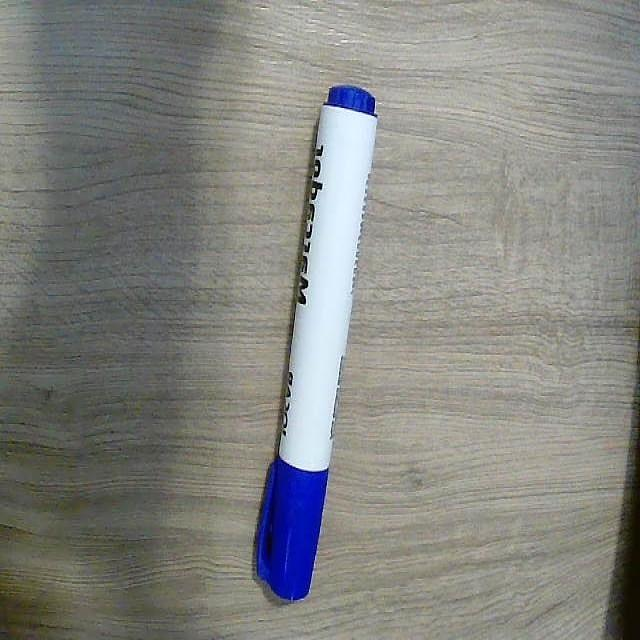caneta: (240, 79, 392, 624)
